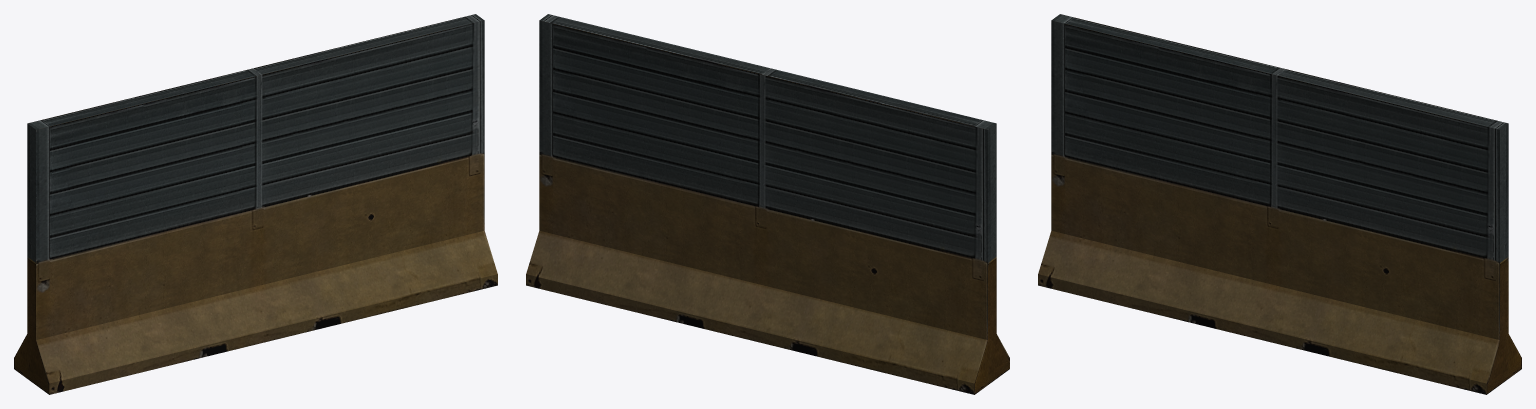
File: barricade_a_3.fbx
3 renders of one model, left to right at view 1: azimuth 30°, elevation 25°; view 2: azimuth 150°, elevation 25°; view 3: azimuth 330°, elevation 25°, orthographic.
Parts seen in each view (by area): view 1: barricade_a_3; view 2: barricade_a_3; view 3: barricade_a_3.
Boxes of the visible parts, bbox=[...] form: barricade_a_3: bbox=[14, 14, 497, 394]; barricade_a_3: bbox=[526, 14, 1009, 394]; barricade_a_3: bbox=[1038, 14, 1521, 394].
Bounding box in the file's own units: 2.94 × 0.4 × 1.6.
